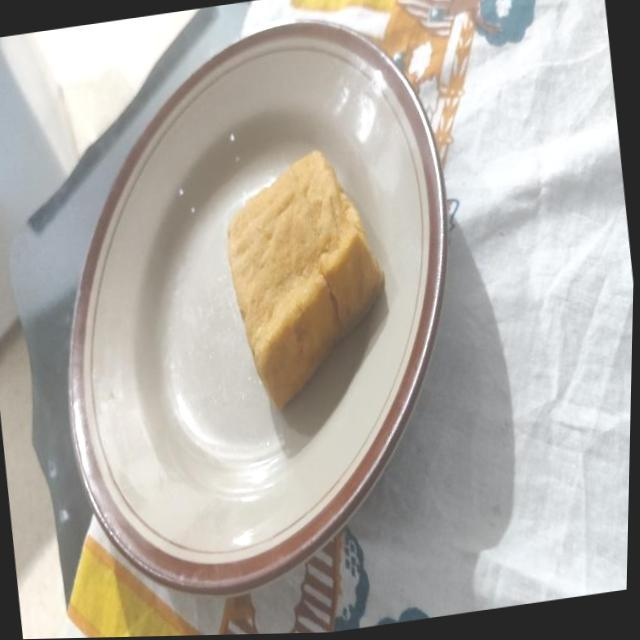tahu_goreng: (228, 150, 384, 410)
